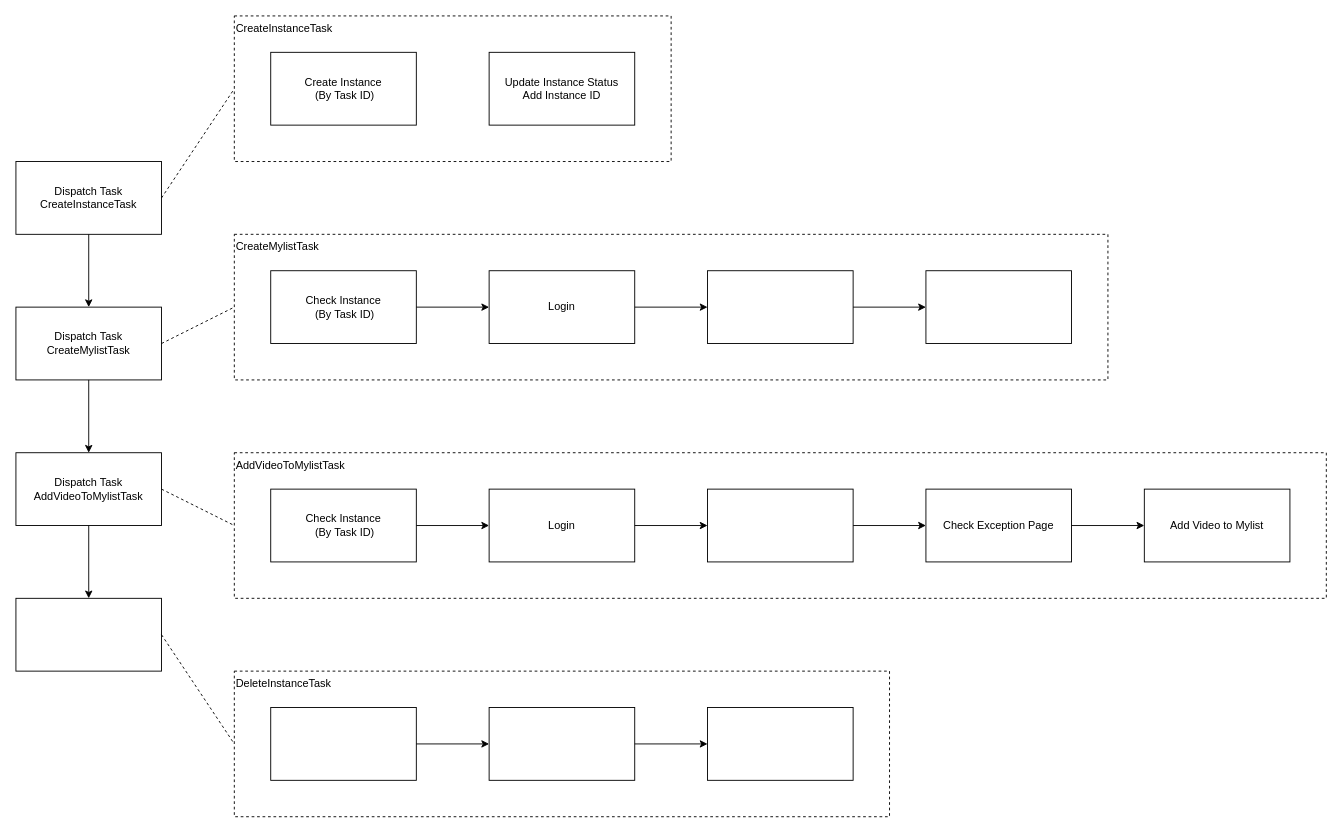
Image size: 1342x833. Some labels were removed from this diagram. Each missing label, with the centre of its shape:
"Check Mylist" belongs at (x=780, y=307).
"Check Task" belongs at (x=343, y=743).
"Create Mylist" belongs at (x=998, y=307).
"Delete Instance" belongs at (x=561, y=743).
"Dispatch Task DeleteInstanceTask" belongs at (x=88, y=634).
"Open Page" belongs at (x=780, y=525).
"Update Instance Status" belongs at (x=780, y=743).
